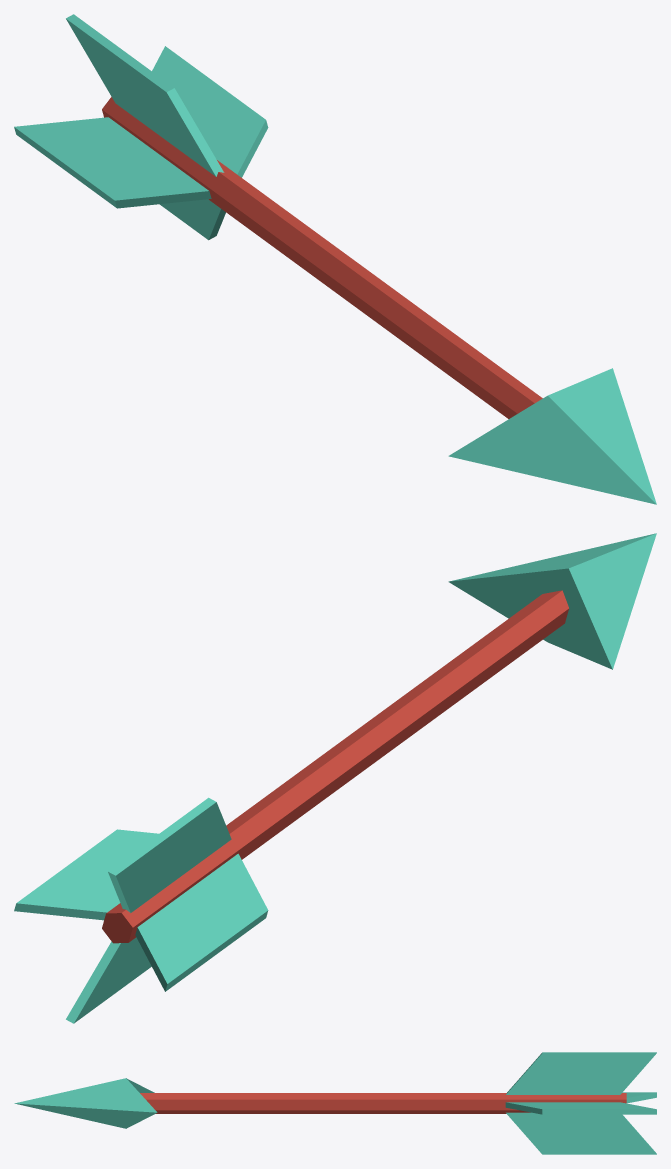
Rendered from Arrow.fbx.
3 renders of one model, top to bottom at view 1: azimuth 30°, elevation 25°; view 2: azimuth 150°, elevation 25°; view 3: azimuth 270°, elevation 25°, orthographic. The views are drawn at different scales.
Parts seen in each view (by area): view 1: Arrow; view 2: Arrow; view 3: Arrow.
Part boxes in pixels (bbox=[...]): Arrow: bbox=[14, 14, 656, 504]; Arrow: bbox=[14, 533, 656, 1023]; Arrow: bbox=[14, 1052, 656, 1154].
Bounding box in the file's own units: 10.26 × 9.56 × 61.1.
Materials: 3 (3 with a texture image).
